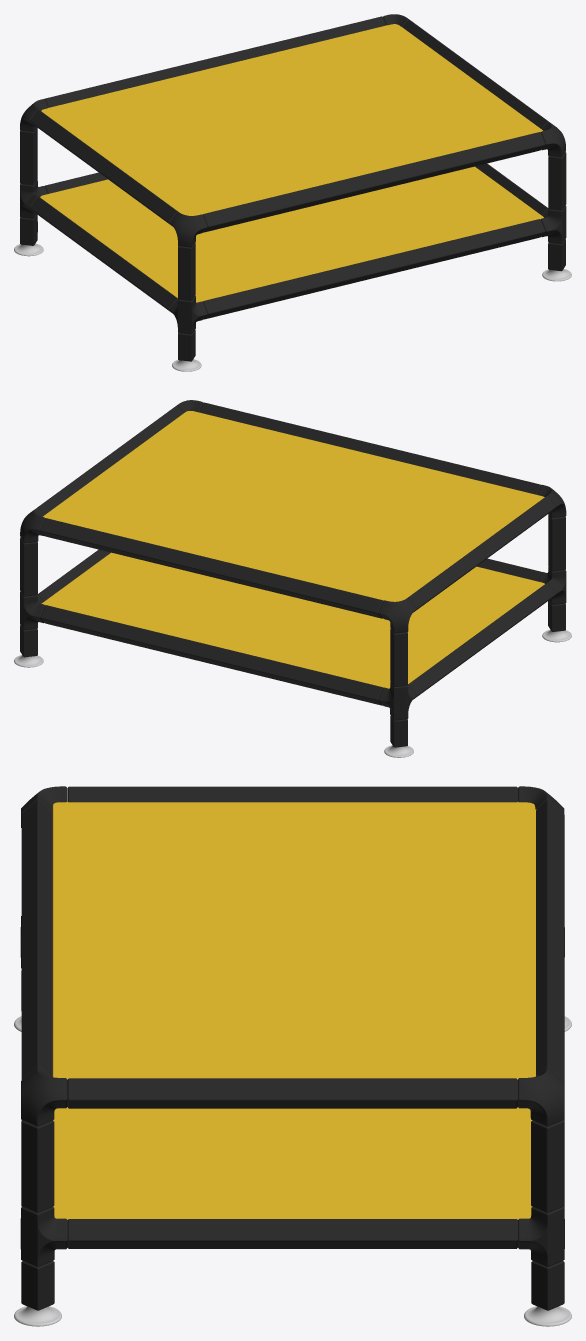
The picture shows the model from 3 angles, top to bottom: view 1: azimuth 30°, elevation 25°; view 2: azimuth 150°, elevation 25°; view 3: azimuth 270°, elevation 25°; orthographic projection. The views are drawn at different scales.
Parts seen in each view (by area): view 1: 523x374x79; view 2: 523x374x79; view 3: 523x374x79.
Part boxes in pixels (x1,y1,x2,y2): 523x374x79: (14, 14, 571, 371); 523x374x79: (14, 400, 571, 757); 523x374x79: (14, 786, 571, 1326).
Bounding box in the file's own units: 0.6129 × 0.2183 × 0.4632.
